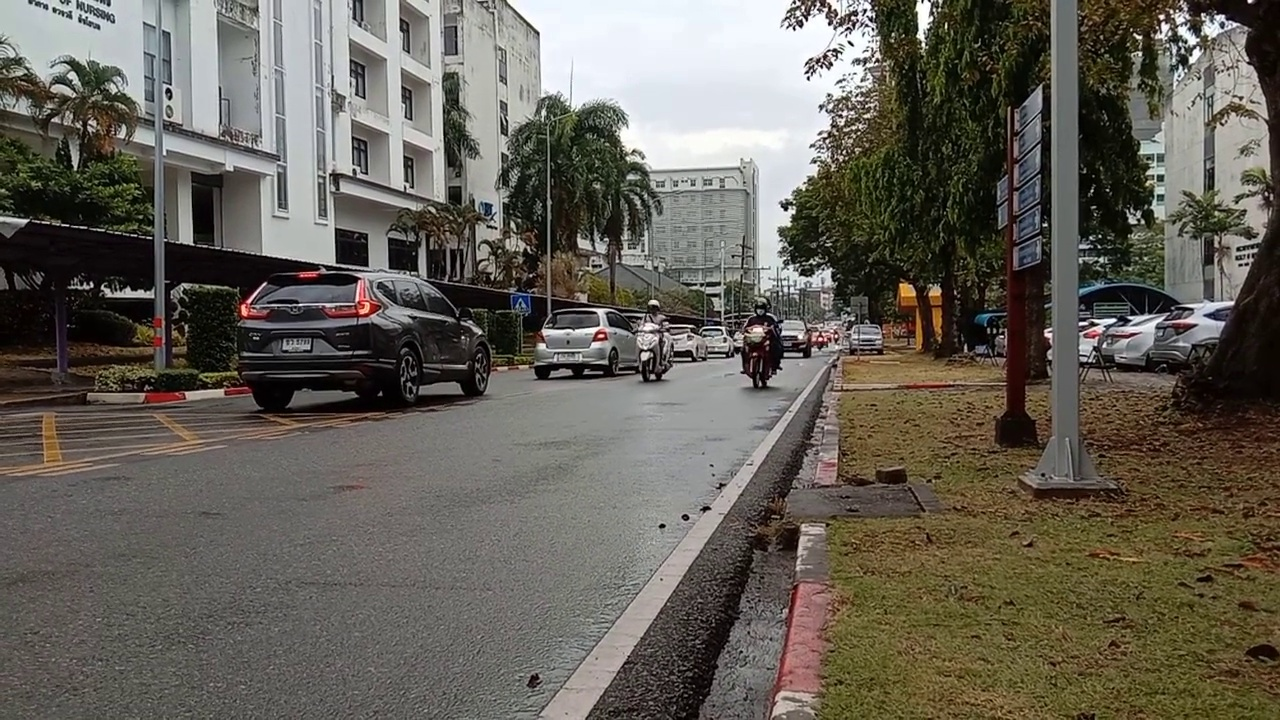License Plate: (280, 334, 310, 352), (555, 349, 579, 362)
